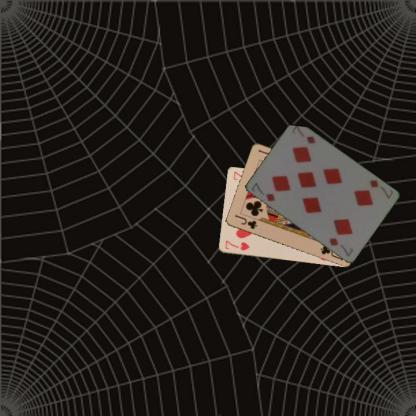7d: (249, 180, 276, 202), (367, 178, 394, 200)
7h: (223, 238, 250, 252)
Jc: (232, 212, 258, 231)
